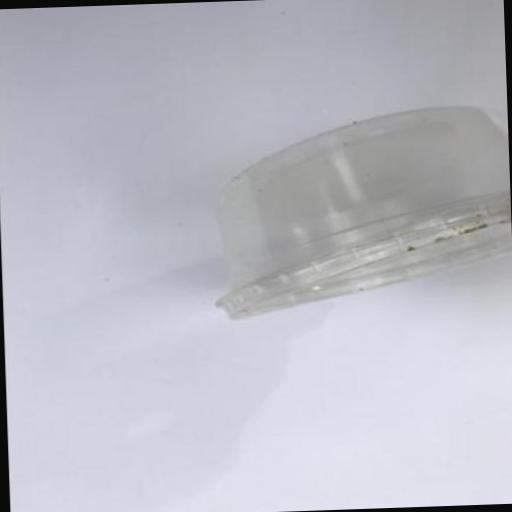plastic: (202, 106, 512, 321)
